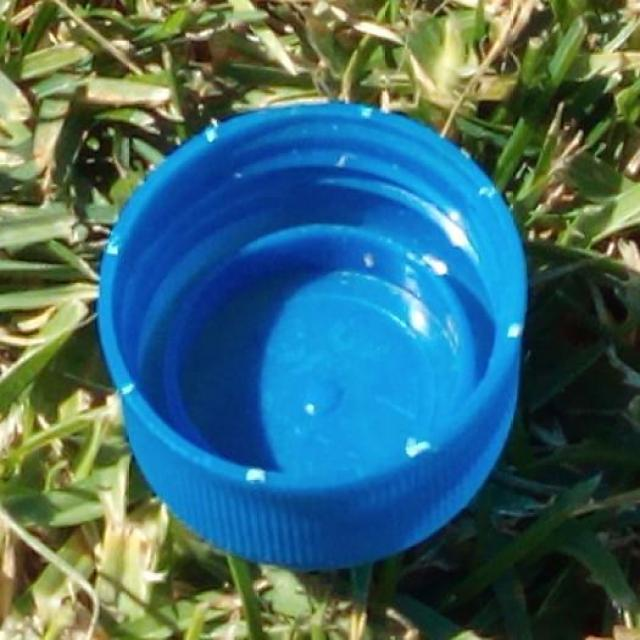litter: (99, 104, 528, 573)
